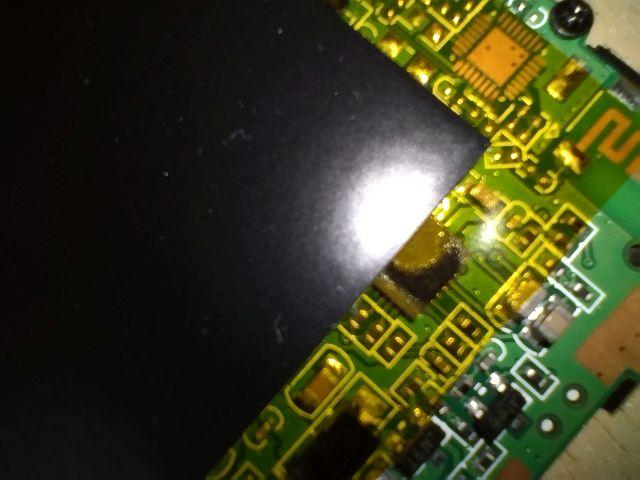capacitor: (266, 324, 367, 427), (484, 262, 558, 331), (528, 295, 591, 360)
